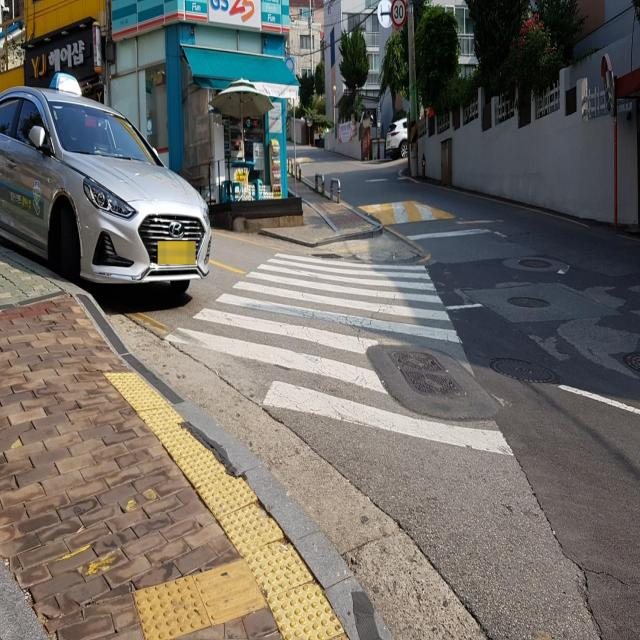횡단보도: (162, 248, 516, 460)
